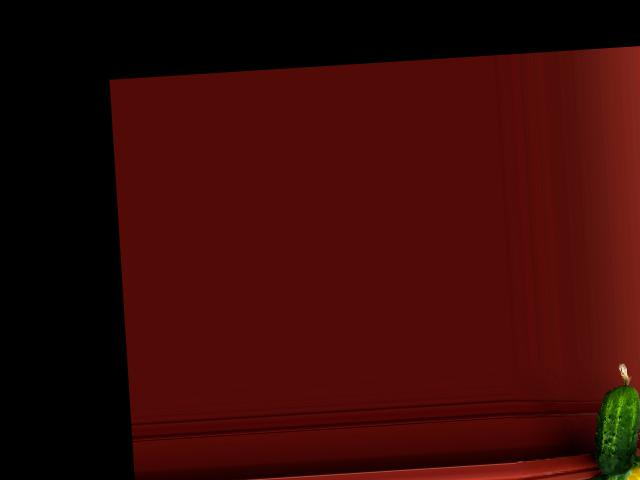cucumber: (590, 361, 640, 477)
